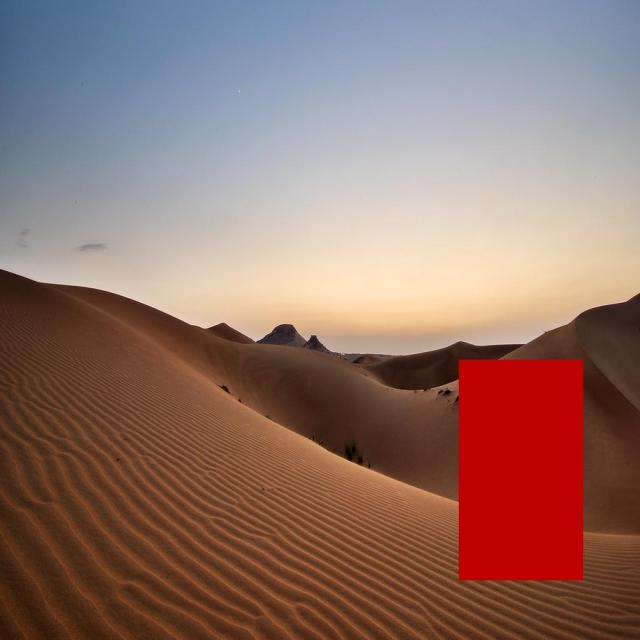RedSquare: (454, 348, 590, 589)
